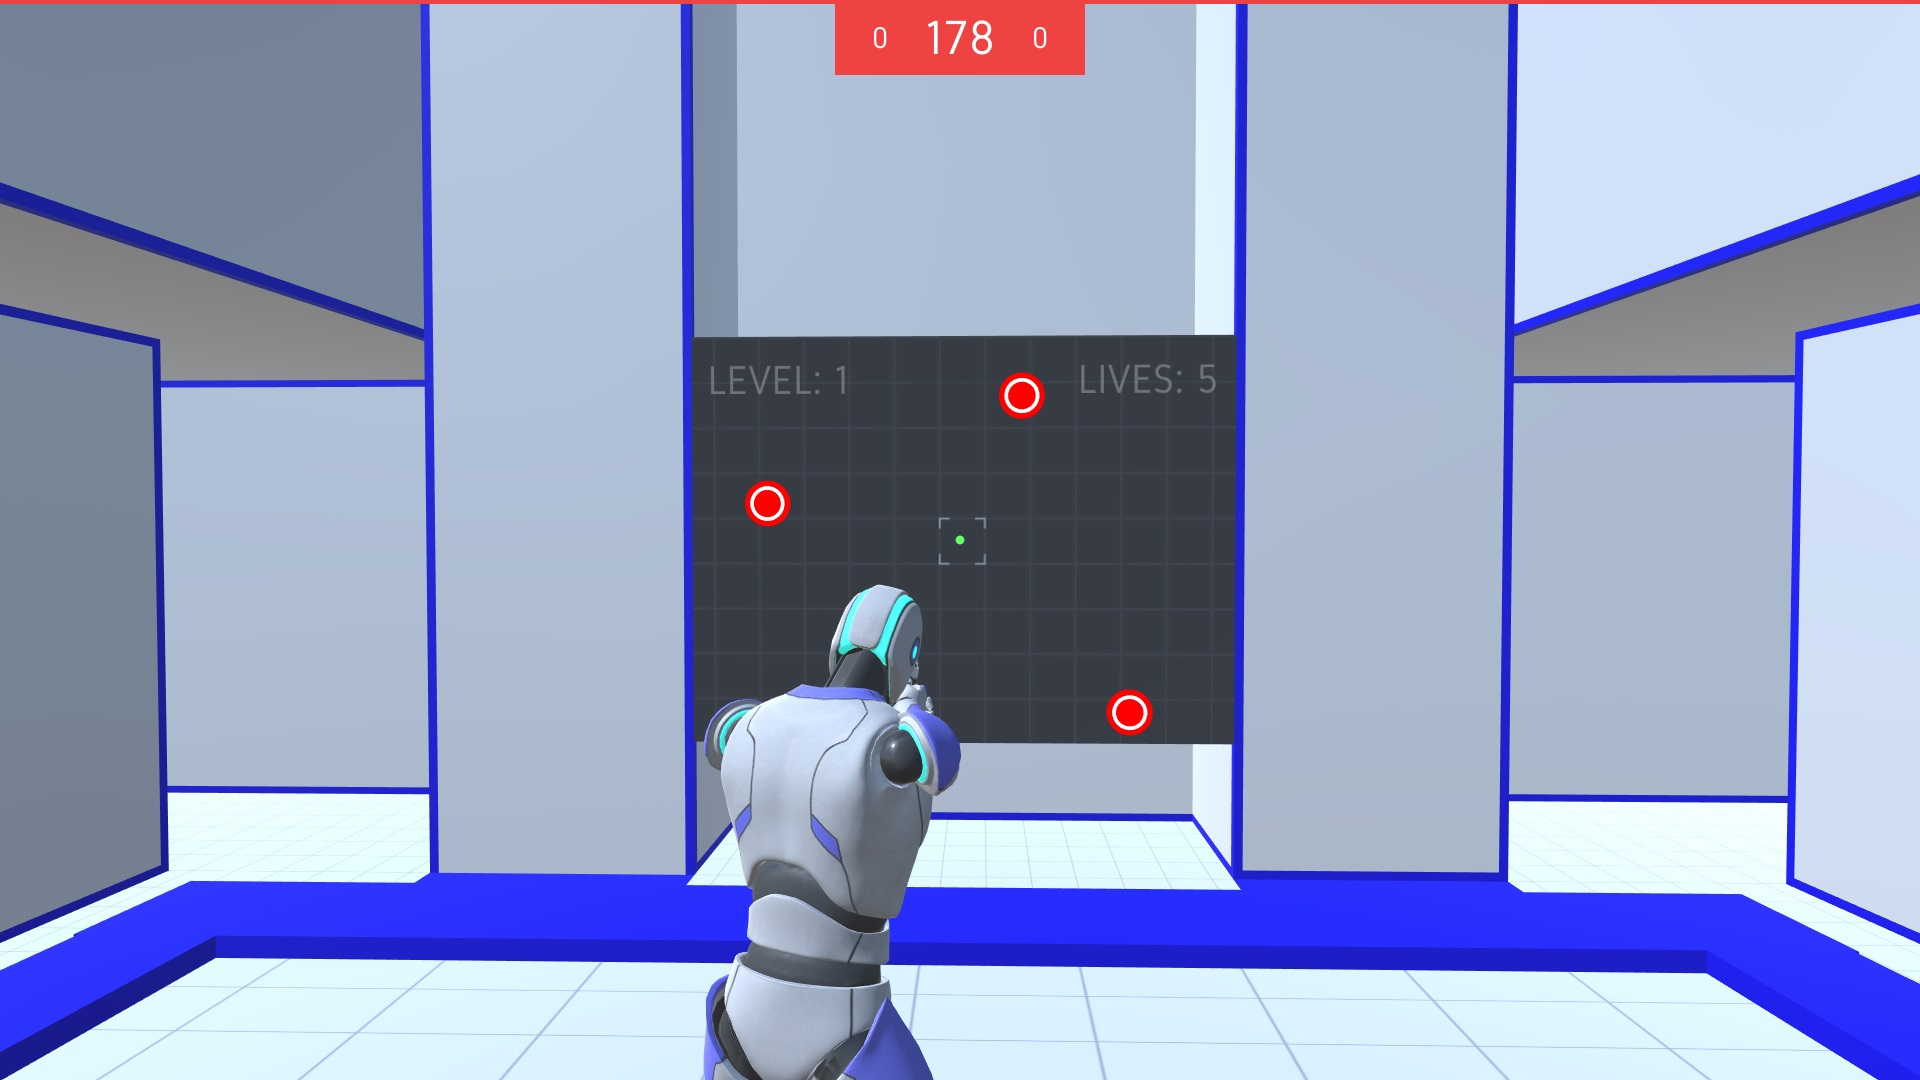Target: (1102, 686, 1156, 737), (741, 476, 793, 527), (996, 371, 1048, 419)
